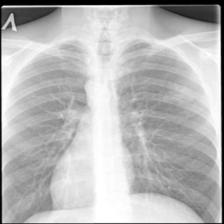tuberculosis: (2, 30, 222, 224)
